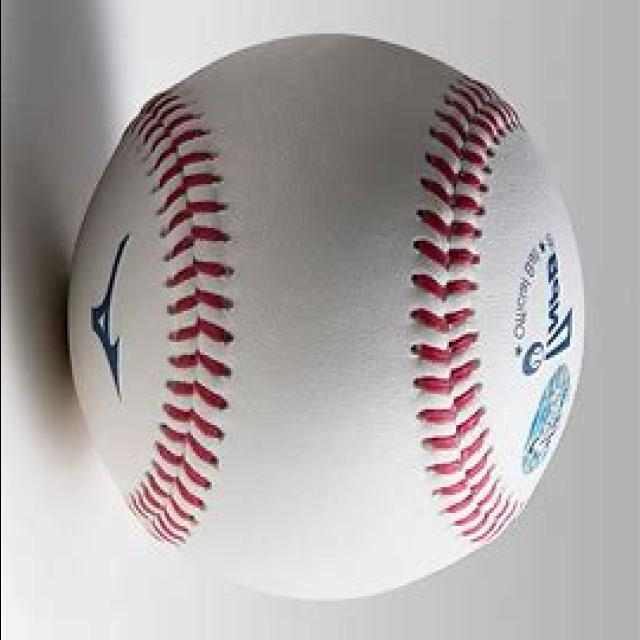ball: (64, 28, 590, 606)
